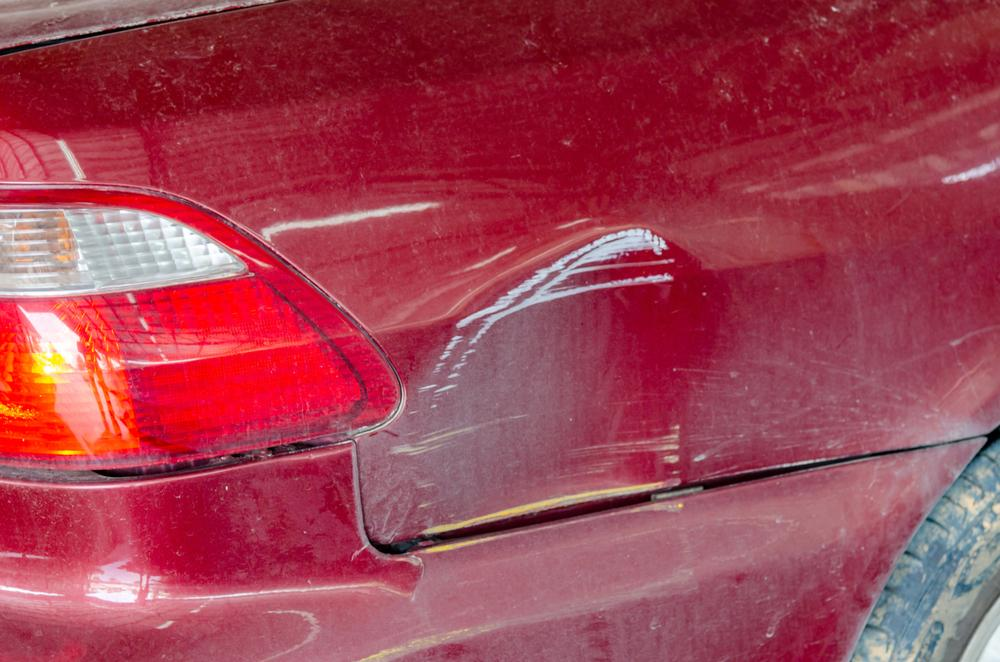dent: (408, 232, 703, 532)
